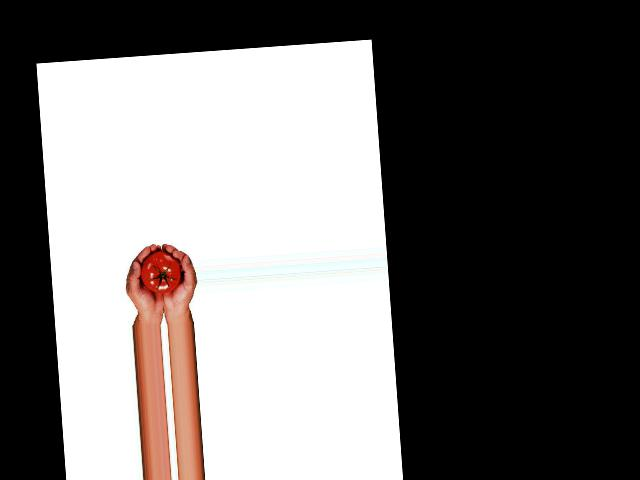tomato: (138, 250, 181, 294)
